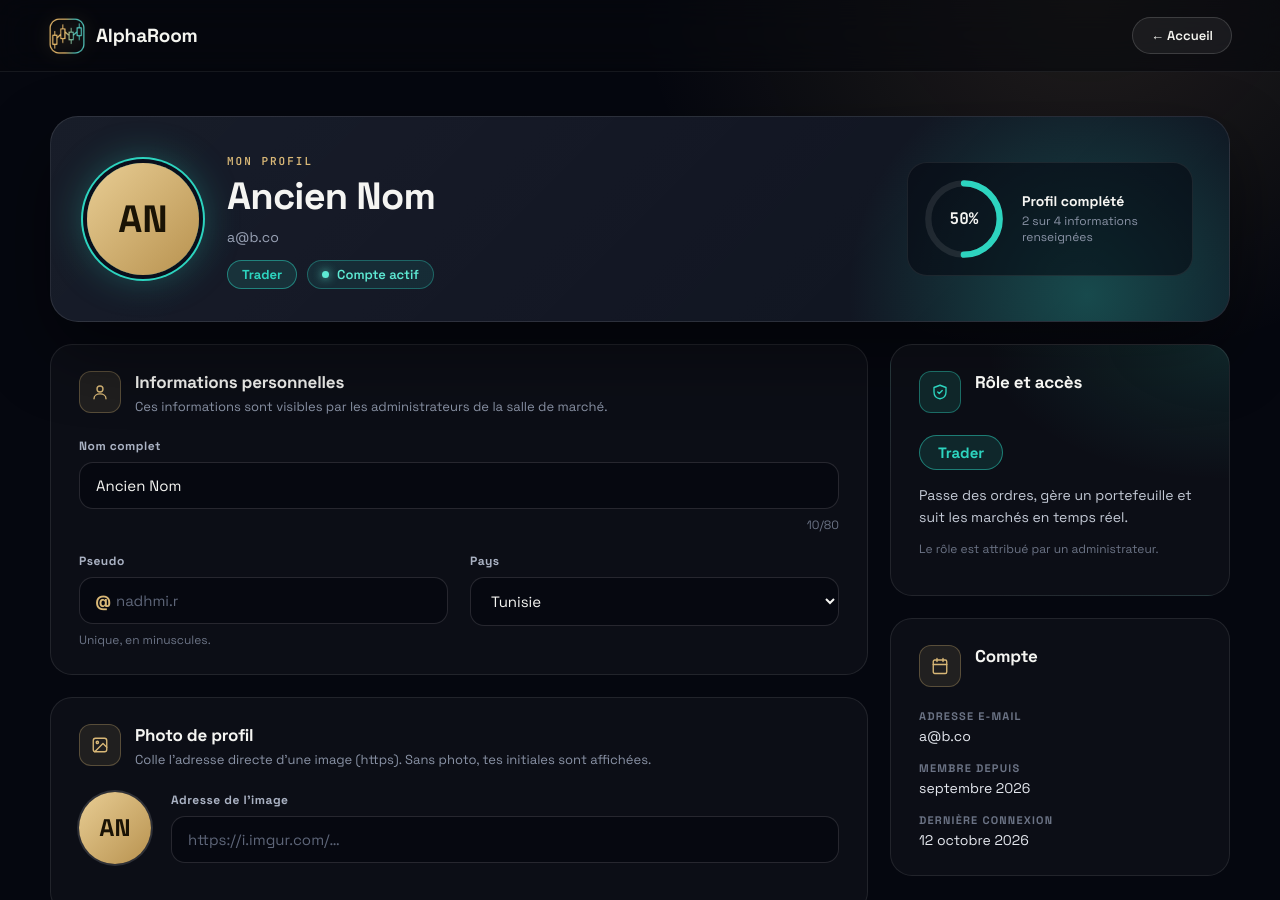
Test: ProfilePage › refuse un pseudo invalide sans appeler le backend
This screenshot has width=1280, height=900.
Type "a b" into the field labelled "Pseudo" at (264, 601), box [79, 577, 448, 624]
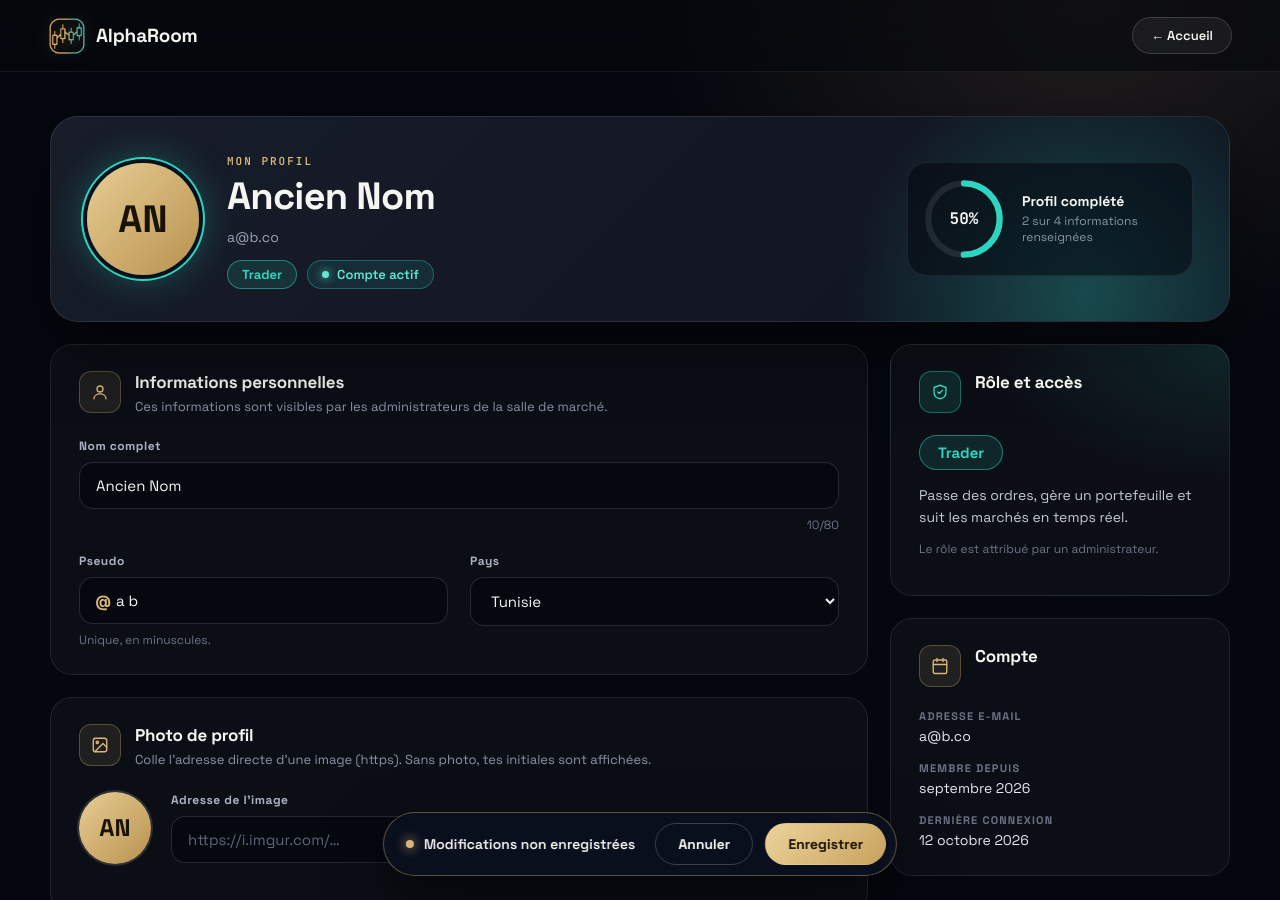
Click the button "Enregistrer" at (826, 844), box [765, 823, 886, 865]
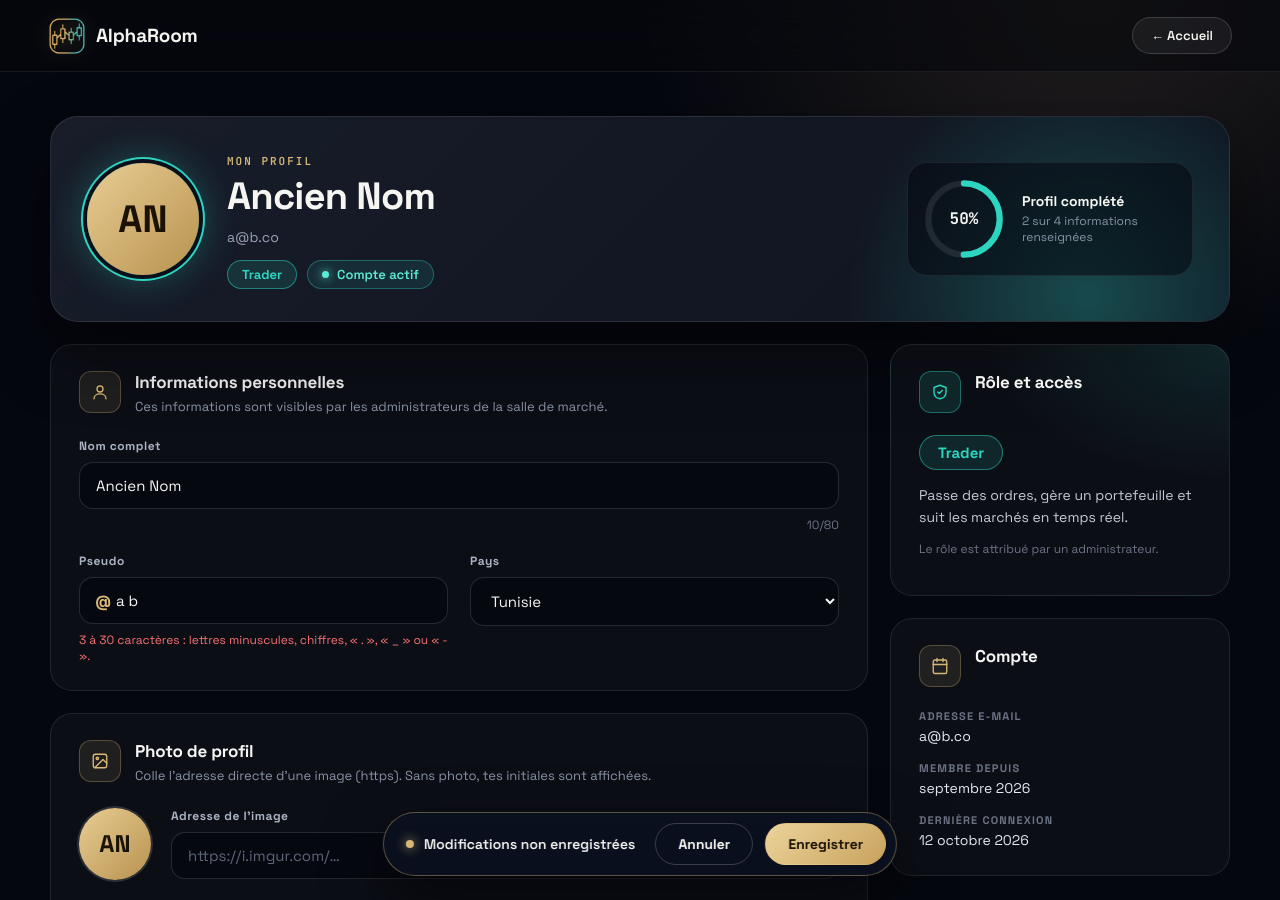
Check: the text "3 à 30 caractères" is shown, box [79, 632, 447, 664]
